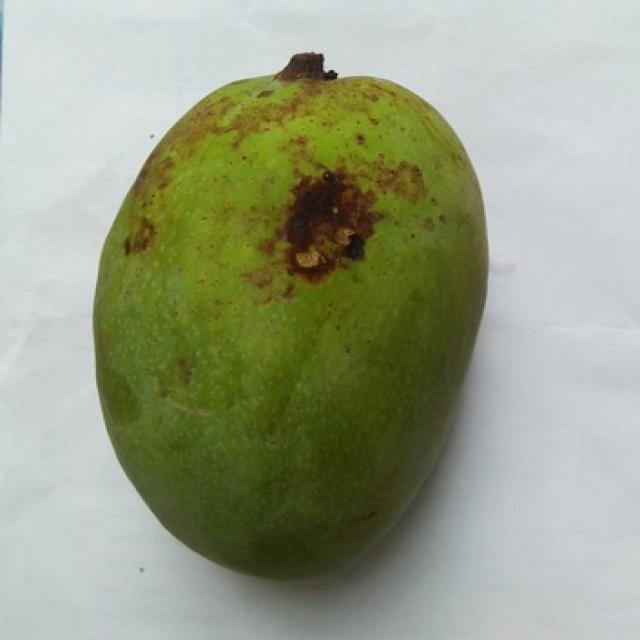Mango: (96, 57, 486, 575)
